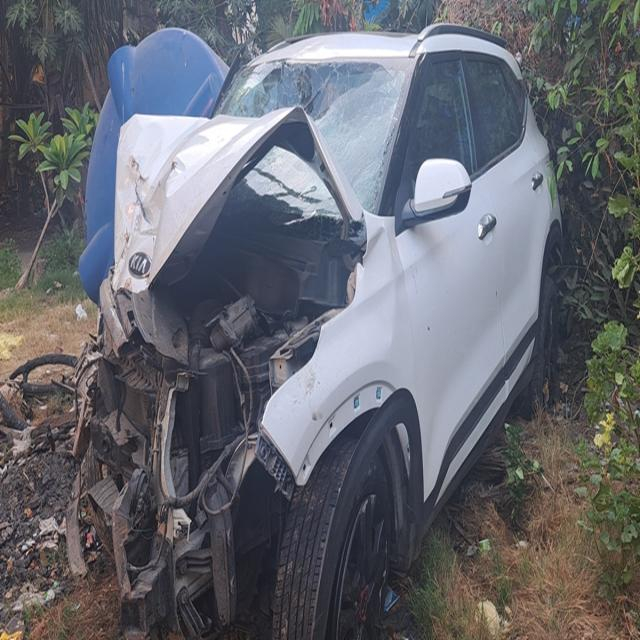accident: (76, 25, 562, 639)
